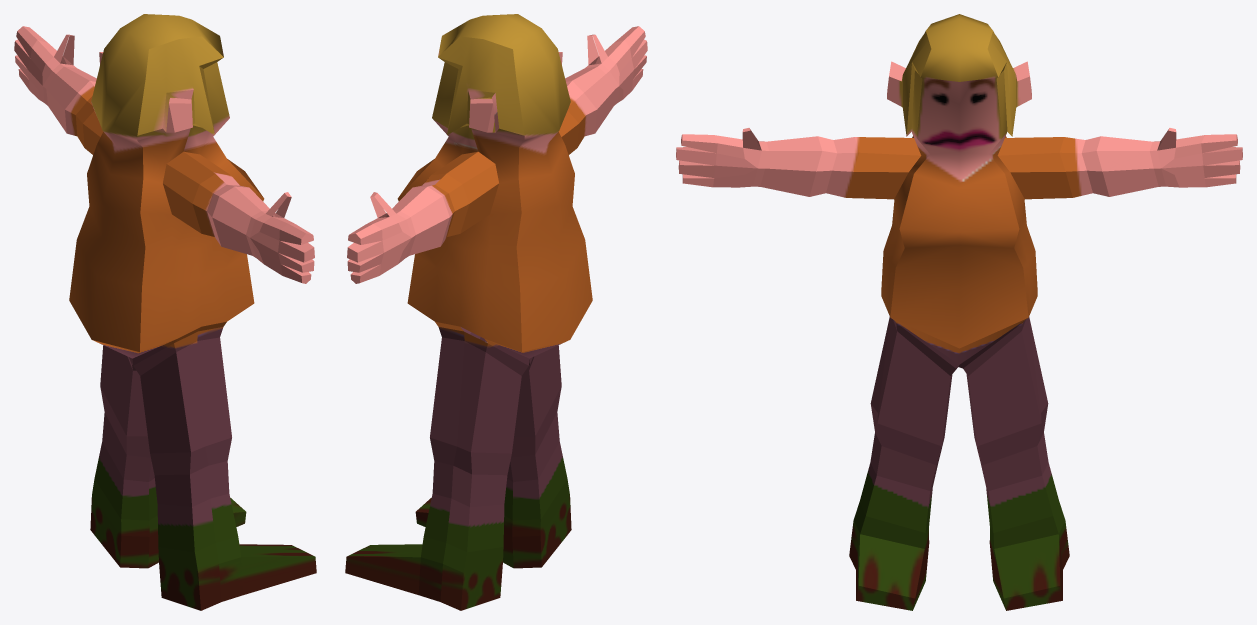
The model's file is characterMor.FBX.
3 renders of one model, left to right at view 1: azimuth 30°, elevation 25°; view 2: azimuth 150°, elevation 25°; view 3: azimuth 270°, elevation 25°, orthographic. The views are drawn at different scales.
Visible parts, largest first — view 1: Box001; view 2: Box001; view 3: Box001.
Boxes of the visible parts, x1,y1,x2,y2 form: Box001: (14, 14, 316, 610); Box001: (345, 14, 647, 610); Box001: (676, 14, 1242, 610).
Bounding box in the file's own units: 64.31 × 197 × 182.
Materials: 1 (1 with a texture image).
